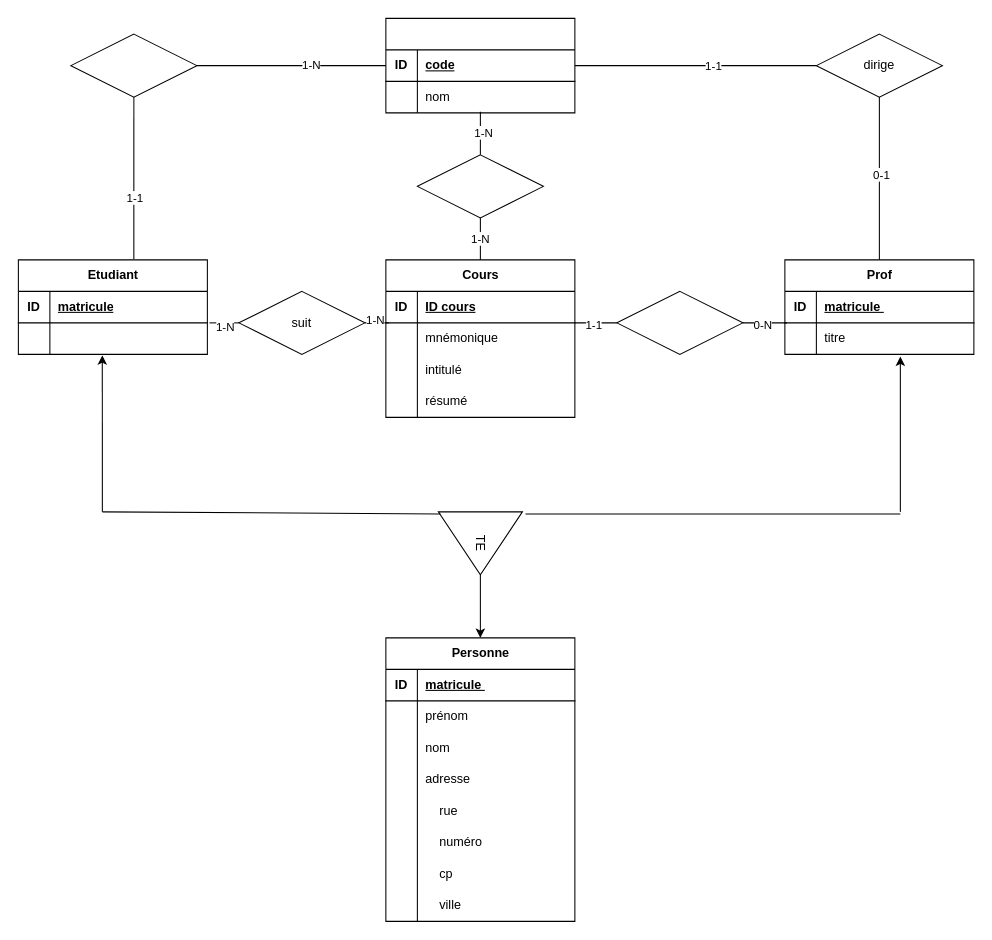
Image size: 992x940. Some labels were removed from this diagram. The shapes that lost their labels are listed below. From the top down, each one's box as (x1, y1, x2, y2) in pixels, then its label:
(70, 33, 197, 97): a choisi
(385, 17, 575, 113): filière
(416, 154, 543, 218): fait partie de
(616, 290, 743, 354): titulaire
